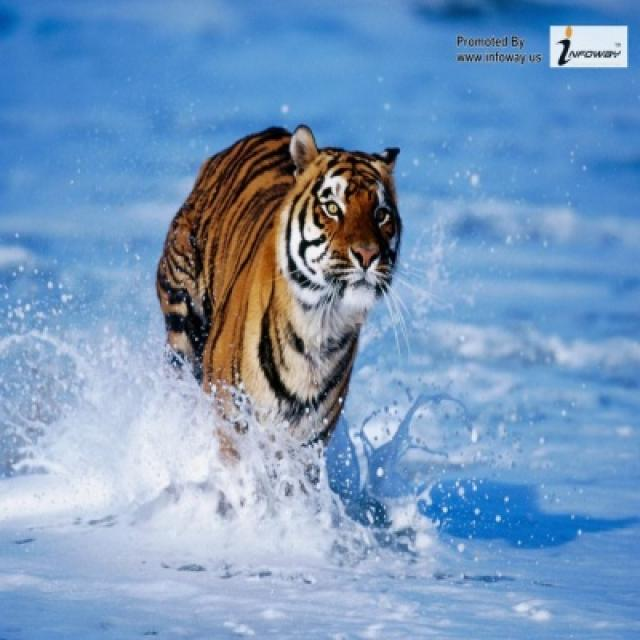Tiger: (148, 122, 415, 475)
